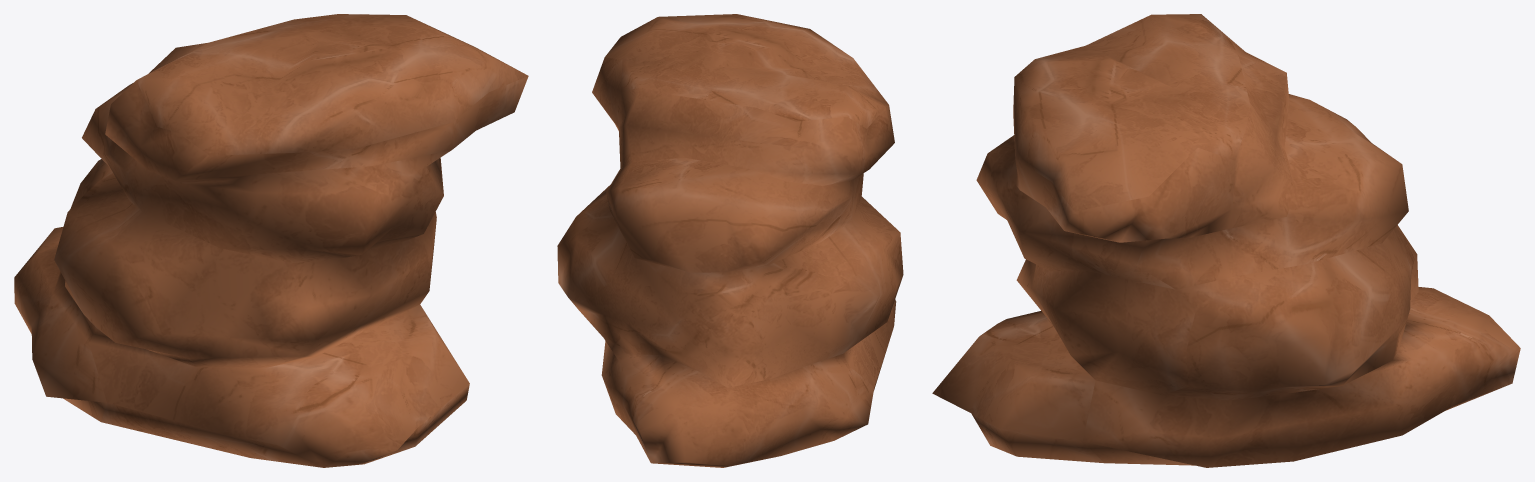
File: ENV2110041.fbx
The picture shows the model from 3 angles, left to right: view 1: azimuth 30°, elevation 25°; view 2: azimuth 150°, elevation 25°; view 3: azimuth 270°, elevation 25°; orthographic projection. The views are drawn at different scales.
Visible parts, largest first — view 1: smENV2110041; view 2: smENV2110041; view 3: smENV2110041.
Boxes of the visible parts, box(x1,y1,x2,y2) form: smENV2110041: box(14, 14, 528, 467); smENV2110041: box(557, 14, 903, 467); smENV2110041: box(932, 14, 1520, 467).
Size of the model in its own units: 142 by 128 by 180.
1 material, 1 textured.
